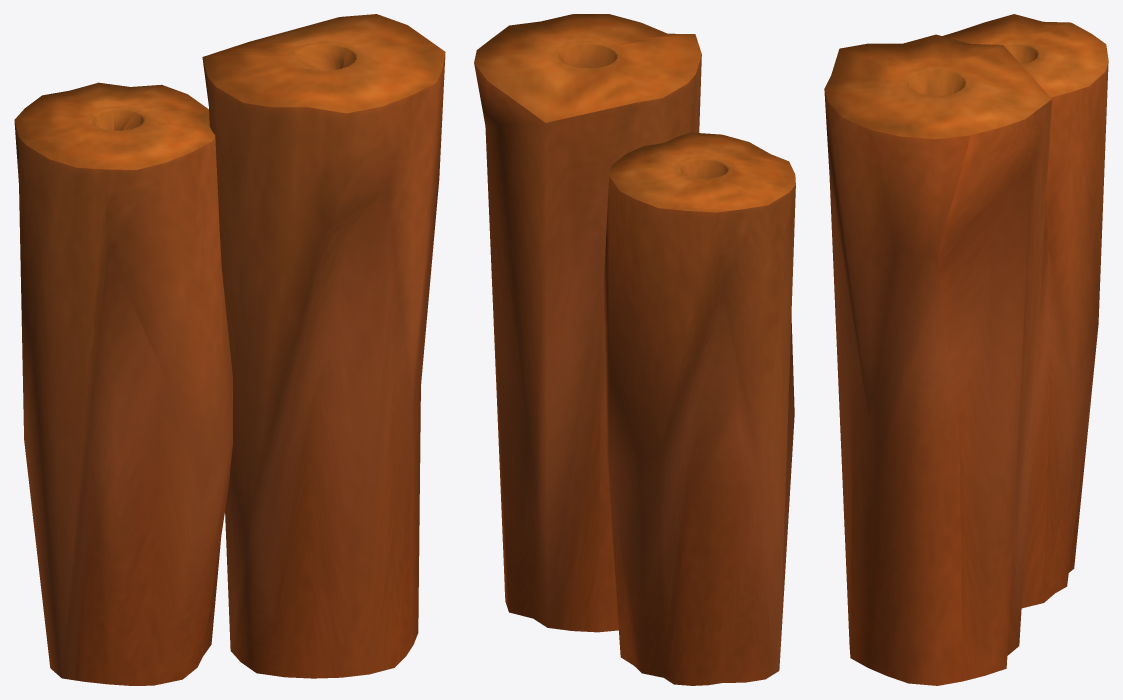
File: seaGrassCylinderDorangev3.fbx
3 renders of one model, left to right at view 1: azimuth 30°, elevation 25°; view 2: azimuth 150°, elevation 25°; view 3: azimuth 270°, elevation 25°, orthographic. The views are drawn at different scales.
Visible parts, largest first — view 1: seaGrassCylinderDorangev3; view 2: seaGrassCylinderDorangev3; view 3: seaGrassCylinderDorangev3.
Boxes of the visible parts, x1=… form: seaGrassCylinderDorangev3: x1=14, y1=14, x2=445, y2=685; seaGrassCylinderDorangev3: x1=474, y1=14, x2=795, y2=685; seaGrassCylinderDorangev3: x1=824, y1=14, x2=1108, y2=685.
Bounding box in the file's own units: 0.077 × 0.1194 × 0.0543.
1 material, 1 textured.
